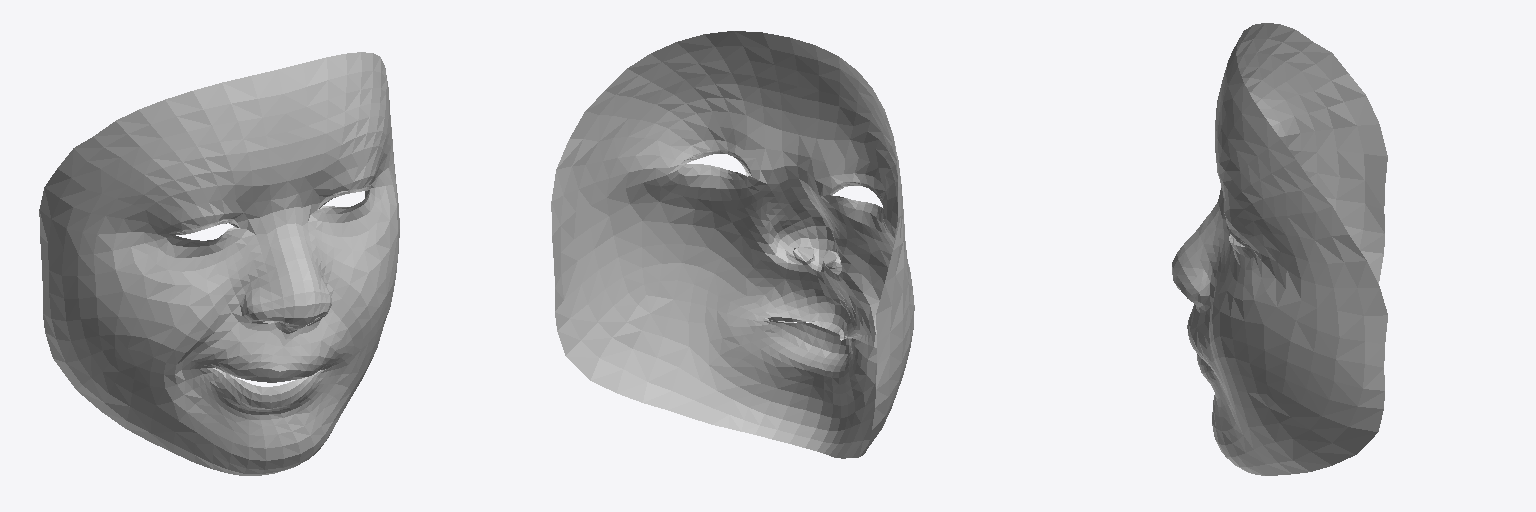
File: mouthRight.obj
3 views of the same model, side by side, from view 1: azimuth 30°, elevation 25°; view 2: azimuth 150°, elevation 25°; view 3: azimuth 270°, elevation 25° (orthographic).
Parts seen in each view (by area): view 1: default; view 2: default; view 3: default.
Part boxes in pixels (bbox=[...]): default: bbox=[39, 52, 399, 475]; default: bbox=[551, 31, 914, 458]; default: bbox=[1172, 23, 1387, 475].
Size of the model in its own units: 0.1624 by 0.1867 by 0.0905.